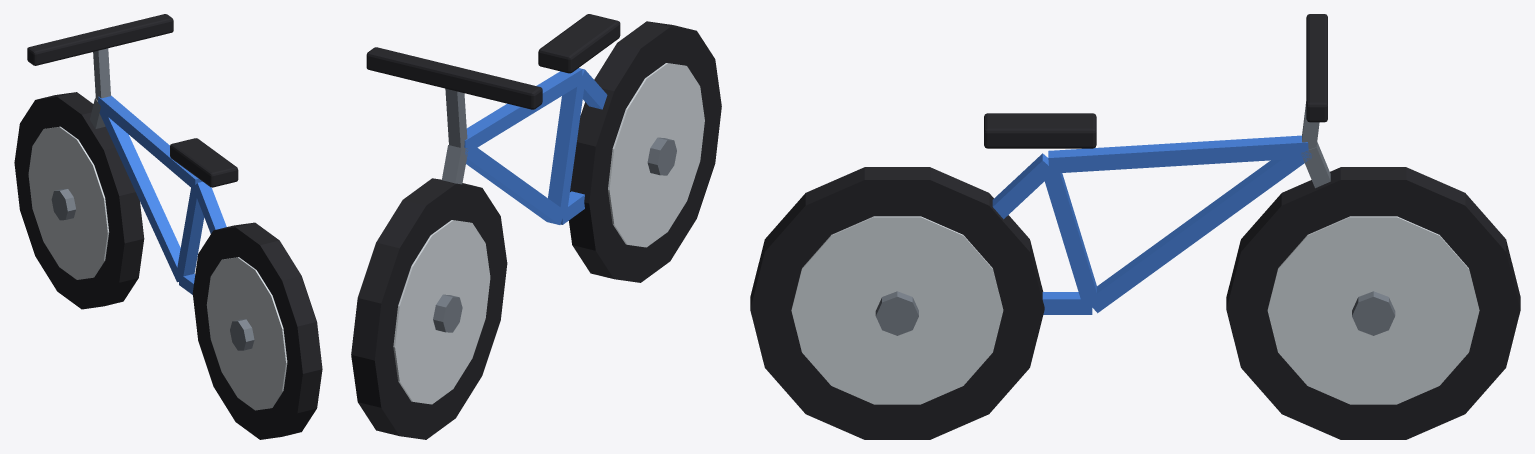
File: BikePolo_Bike.fbx
3 renders of one model, left to right at view 1: azimuth 30°, elevation 25°; view 2: azimuth 150°, elevation 25°; view 3: azimuth 270°, elevation 25°, orthographic. The views are drawn at different scales.
Visible parts, largest first — view 1: Bike; view 2: Bike; view 3: Bike.
Boxes of the visible parts, x1=… form: Bike: x1=14, y1=14, x2=322, y2=439; Bike: x1=351, y1=14, x2=721, y2=439; Bike: x1=750, y1=14, x2=1520, y2=439.
Size of the model in its own units: 0.5 by 0.9565 by 1.78.
